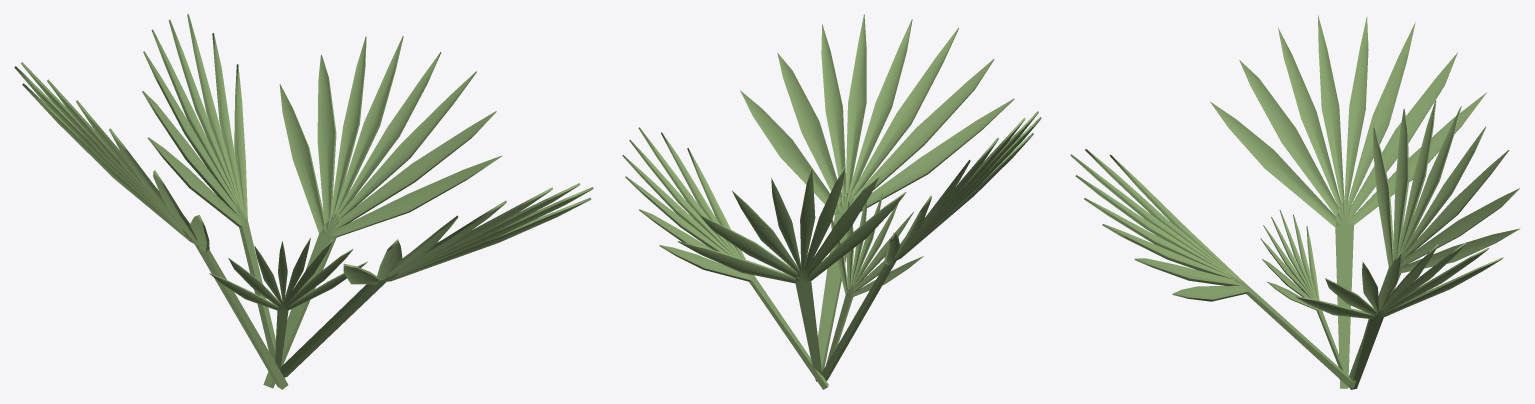
File: sabal_lamberised.fbx
3 views of the same model, side by side, from view 1: azimuth 30°, elevation 25°; view 2: azimuth 150°, elevation 25°; view 3: azimuth 270°, elevation 25° (orthographic). The views are drawn at different scales.
Visible parts, largest first — view 1: pCube157; view 2: pCube157; view 3: pCube157.
Boxes of the visible parts, x1,y1,x2,y2 form: pCube157: (14,14,593,389); pCube157: (622,14,1041,389); pCube157: (1070,15,1520,389).
Bounding box in the file's own units: 3.14 × 2.49 × 3.5.
